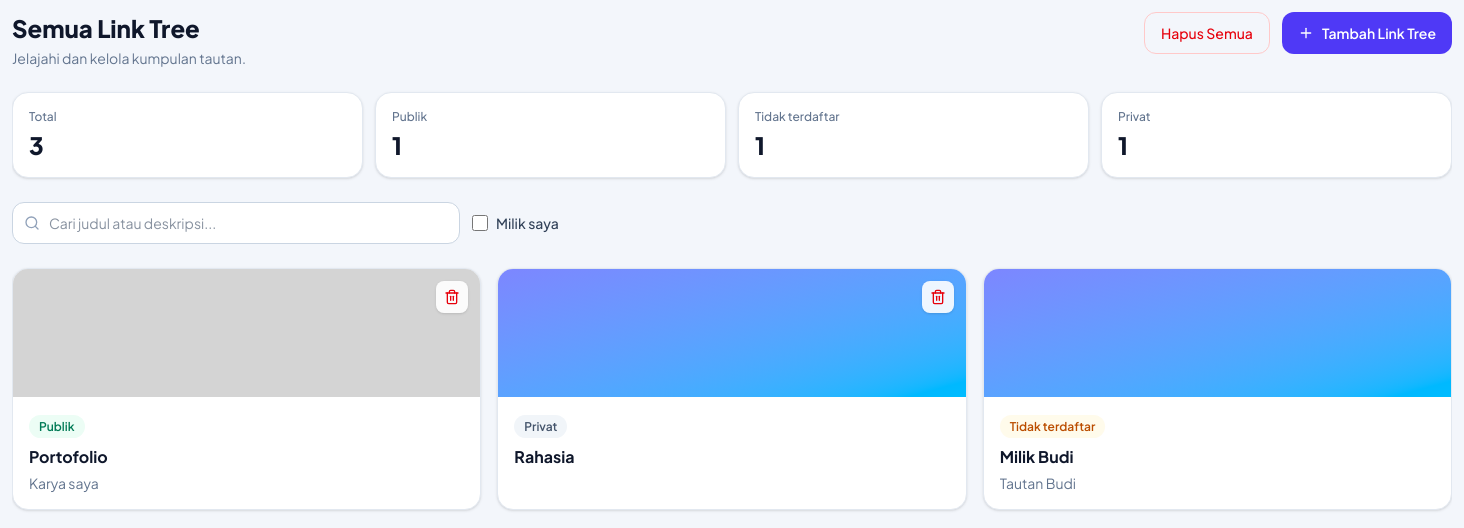
Test: HomePage › pencarian memfilter berdasarkan judul dan deskripsi
The image size is (1464, 528).
Expected: the heading "Portofolio" is shown, [29, 446, 108, 467]
Type " tautan budi " into the search field named "Cari link tree" at (236, 223), box [12, 202, 460, 244]
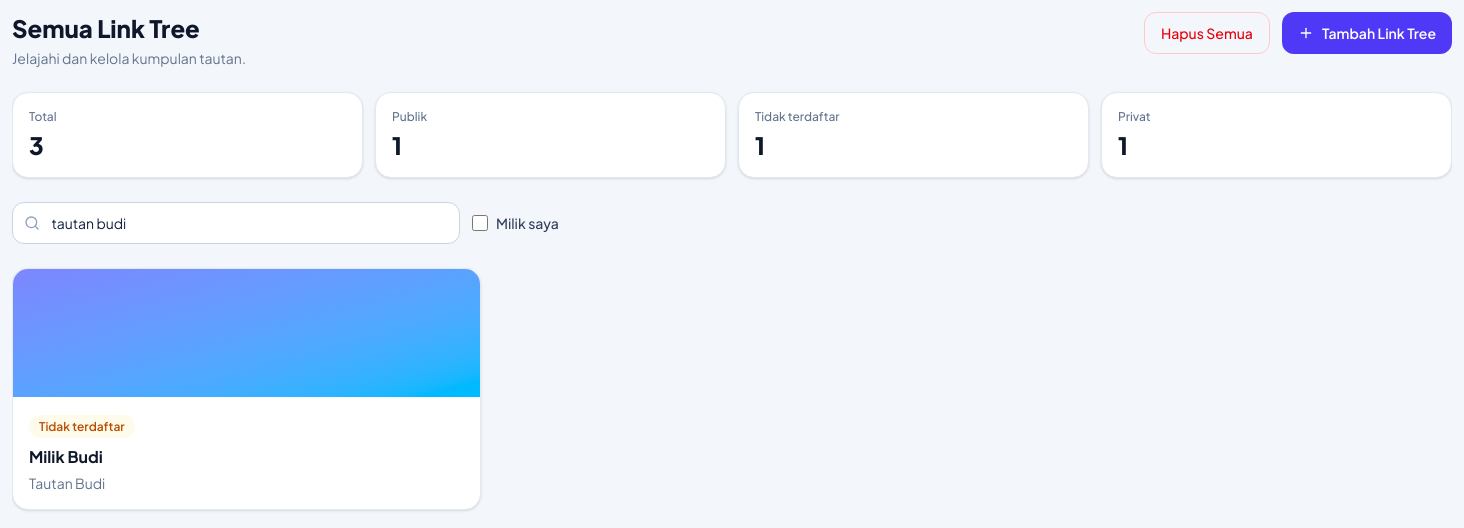
Expected: the heading "Milik Budi" is shown, [29, 446, 103, 467]
Now the link "Portofolio" is gone
